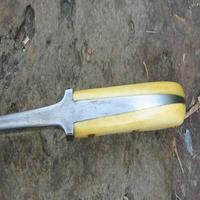knife: (2, 87, 184, 141)
